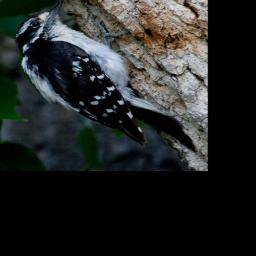Woodpecker: (11, 0, 201, 153)
